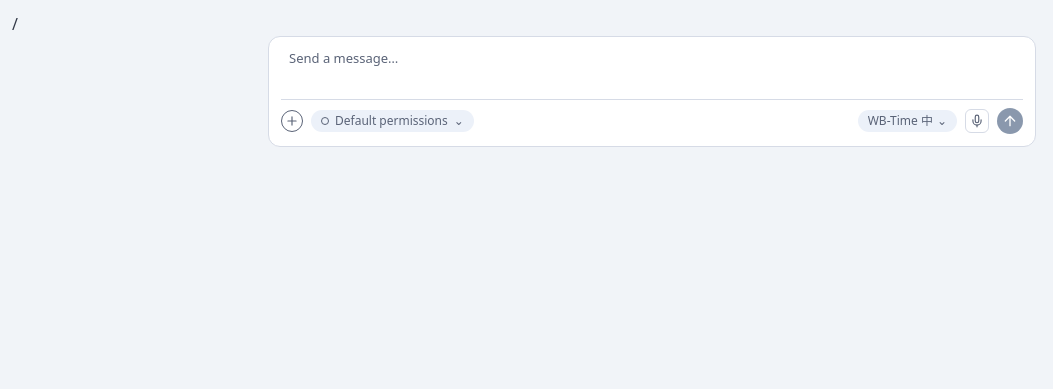
Test: Composer › ＋ 弹出：六项菜单（添加文件 / 引用对话中的文件 / 模式 / 专家 / 技能 / 连接器）
The width and height of the screenshot is (1053, 389).
Press the mouse on the button with test id "composer-plus" at (292, 121), box x1=281 y1=110 x2=303 y2=132
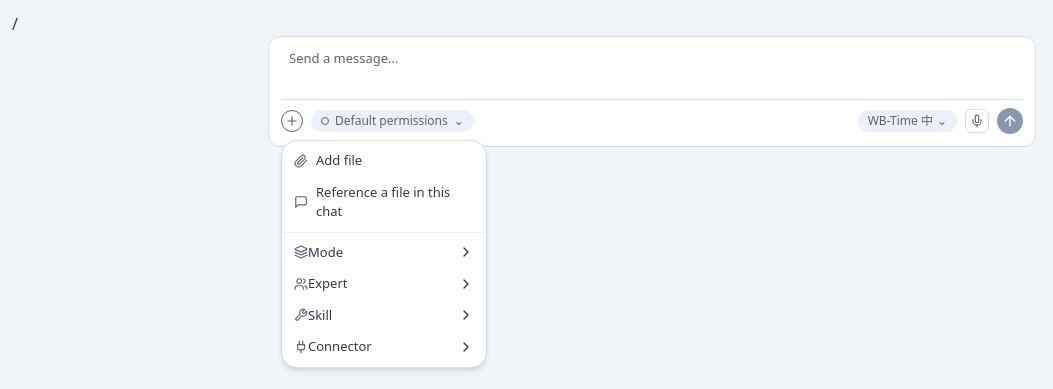
Now the menu with test id "composer-plus-menu" is shown, box x1=281 y1=140 x2=487 y2=368
Now the menu item with test id "composer-plus-expert" is shown, box x1=294 y1=274 x2=474 y2=292
Now the menu item with test id "composer-plus-skill" is shown, box x1=294 y1=306 x2=474 y2=324
